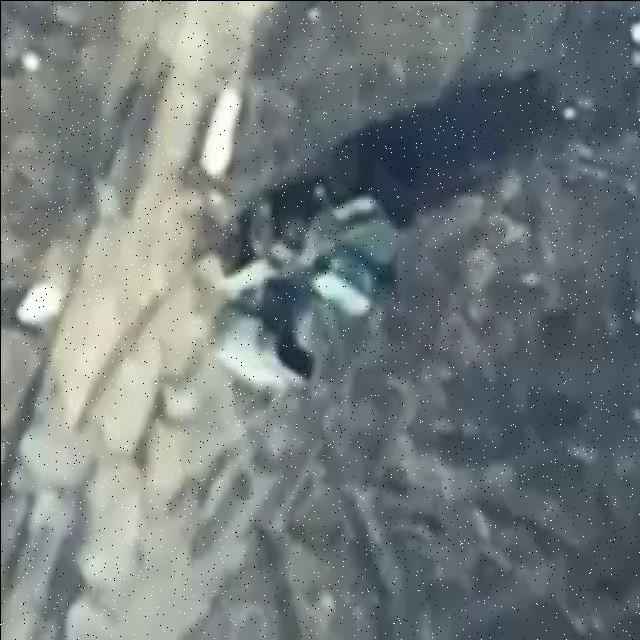MLRS: (215, 138, 418, 402)
